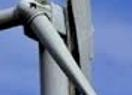faulty: (12, 3, 97, 72)
